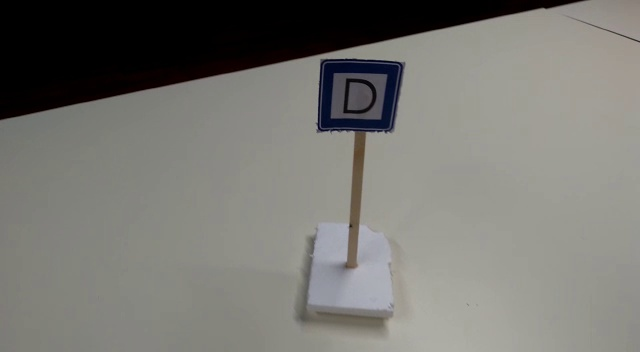durak: (321, 59, 396, 132)
